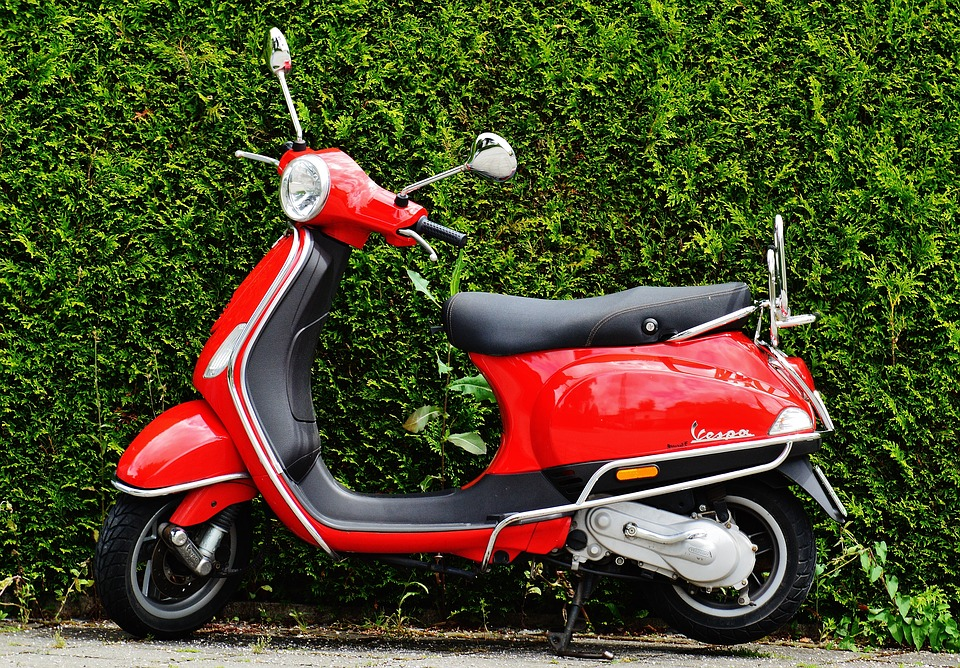motorcycle: (103, 144, 824, 653)
